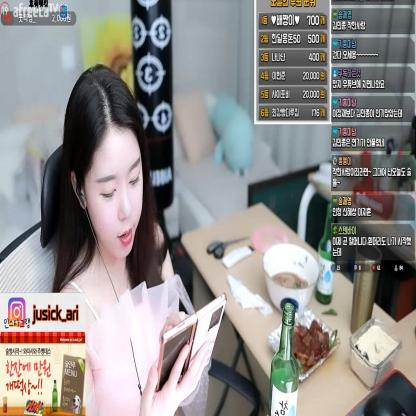streamer: (53, 63, 227, 416)
